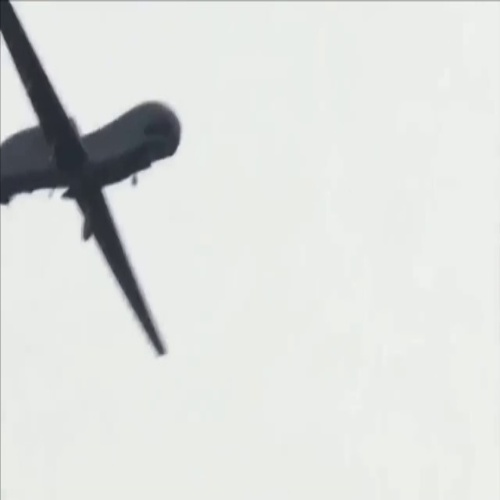uav: (1, 1, 183, 361)
